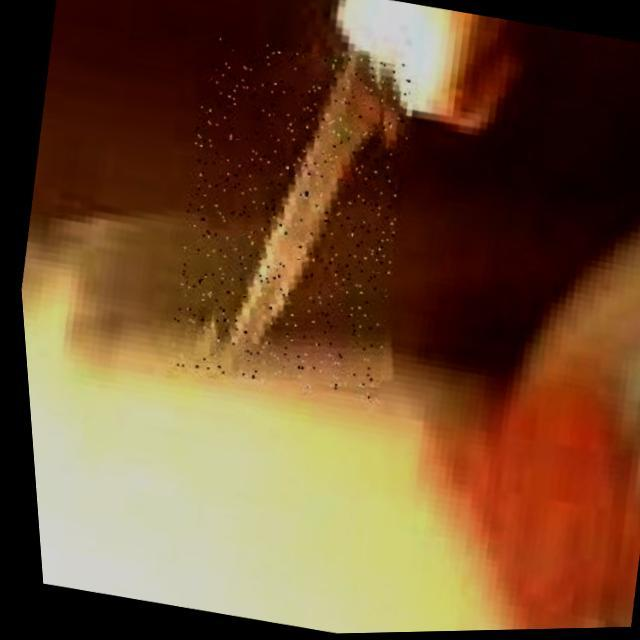knife: (143, 26, 437, 407)
